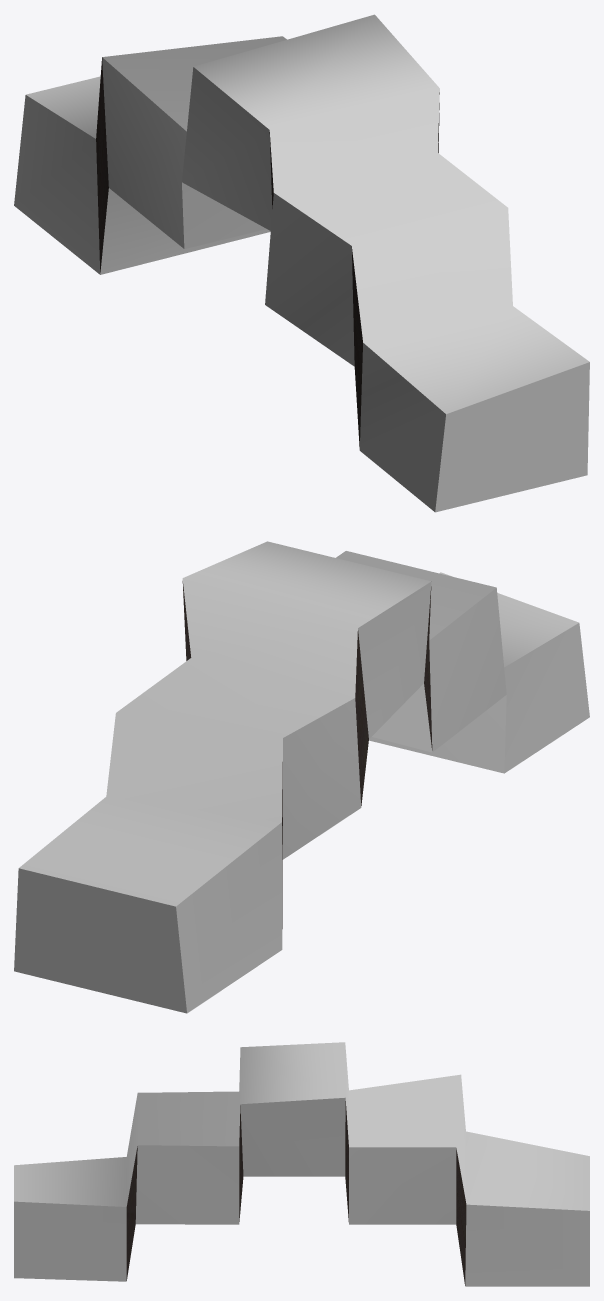
The model's file is Ponte2.fbx.
3 renders of one model, top to bottom at view 1: azimuth 30°, elevation 25°; view 2: azimuth 150°, elevation 25°; view 3: azimuth 270°, elevation 25°, orthographic. The views are drawn at different scales.
Visible parts, largest first — view 1: pCube26; view 2: pCube26; view 3: pCube26.
Part boxes in pixels (x1,y1,x2,y2): pCube26: (14, 14, 589, 512); pCube26: (14, 541, 589, 1013); pCube26: (14, 1042, 589, 1286).
Bounding box in the file's own units: 4.06 × 5.57 × 15.29.
